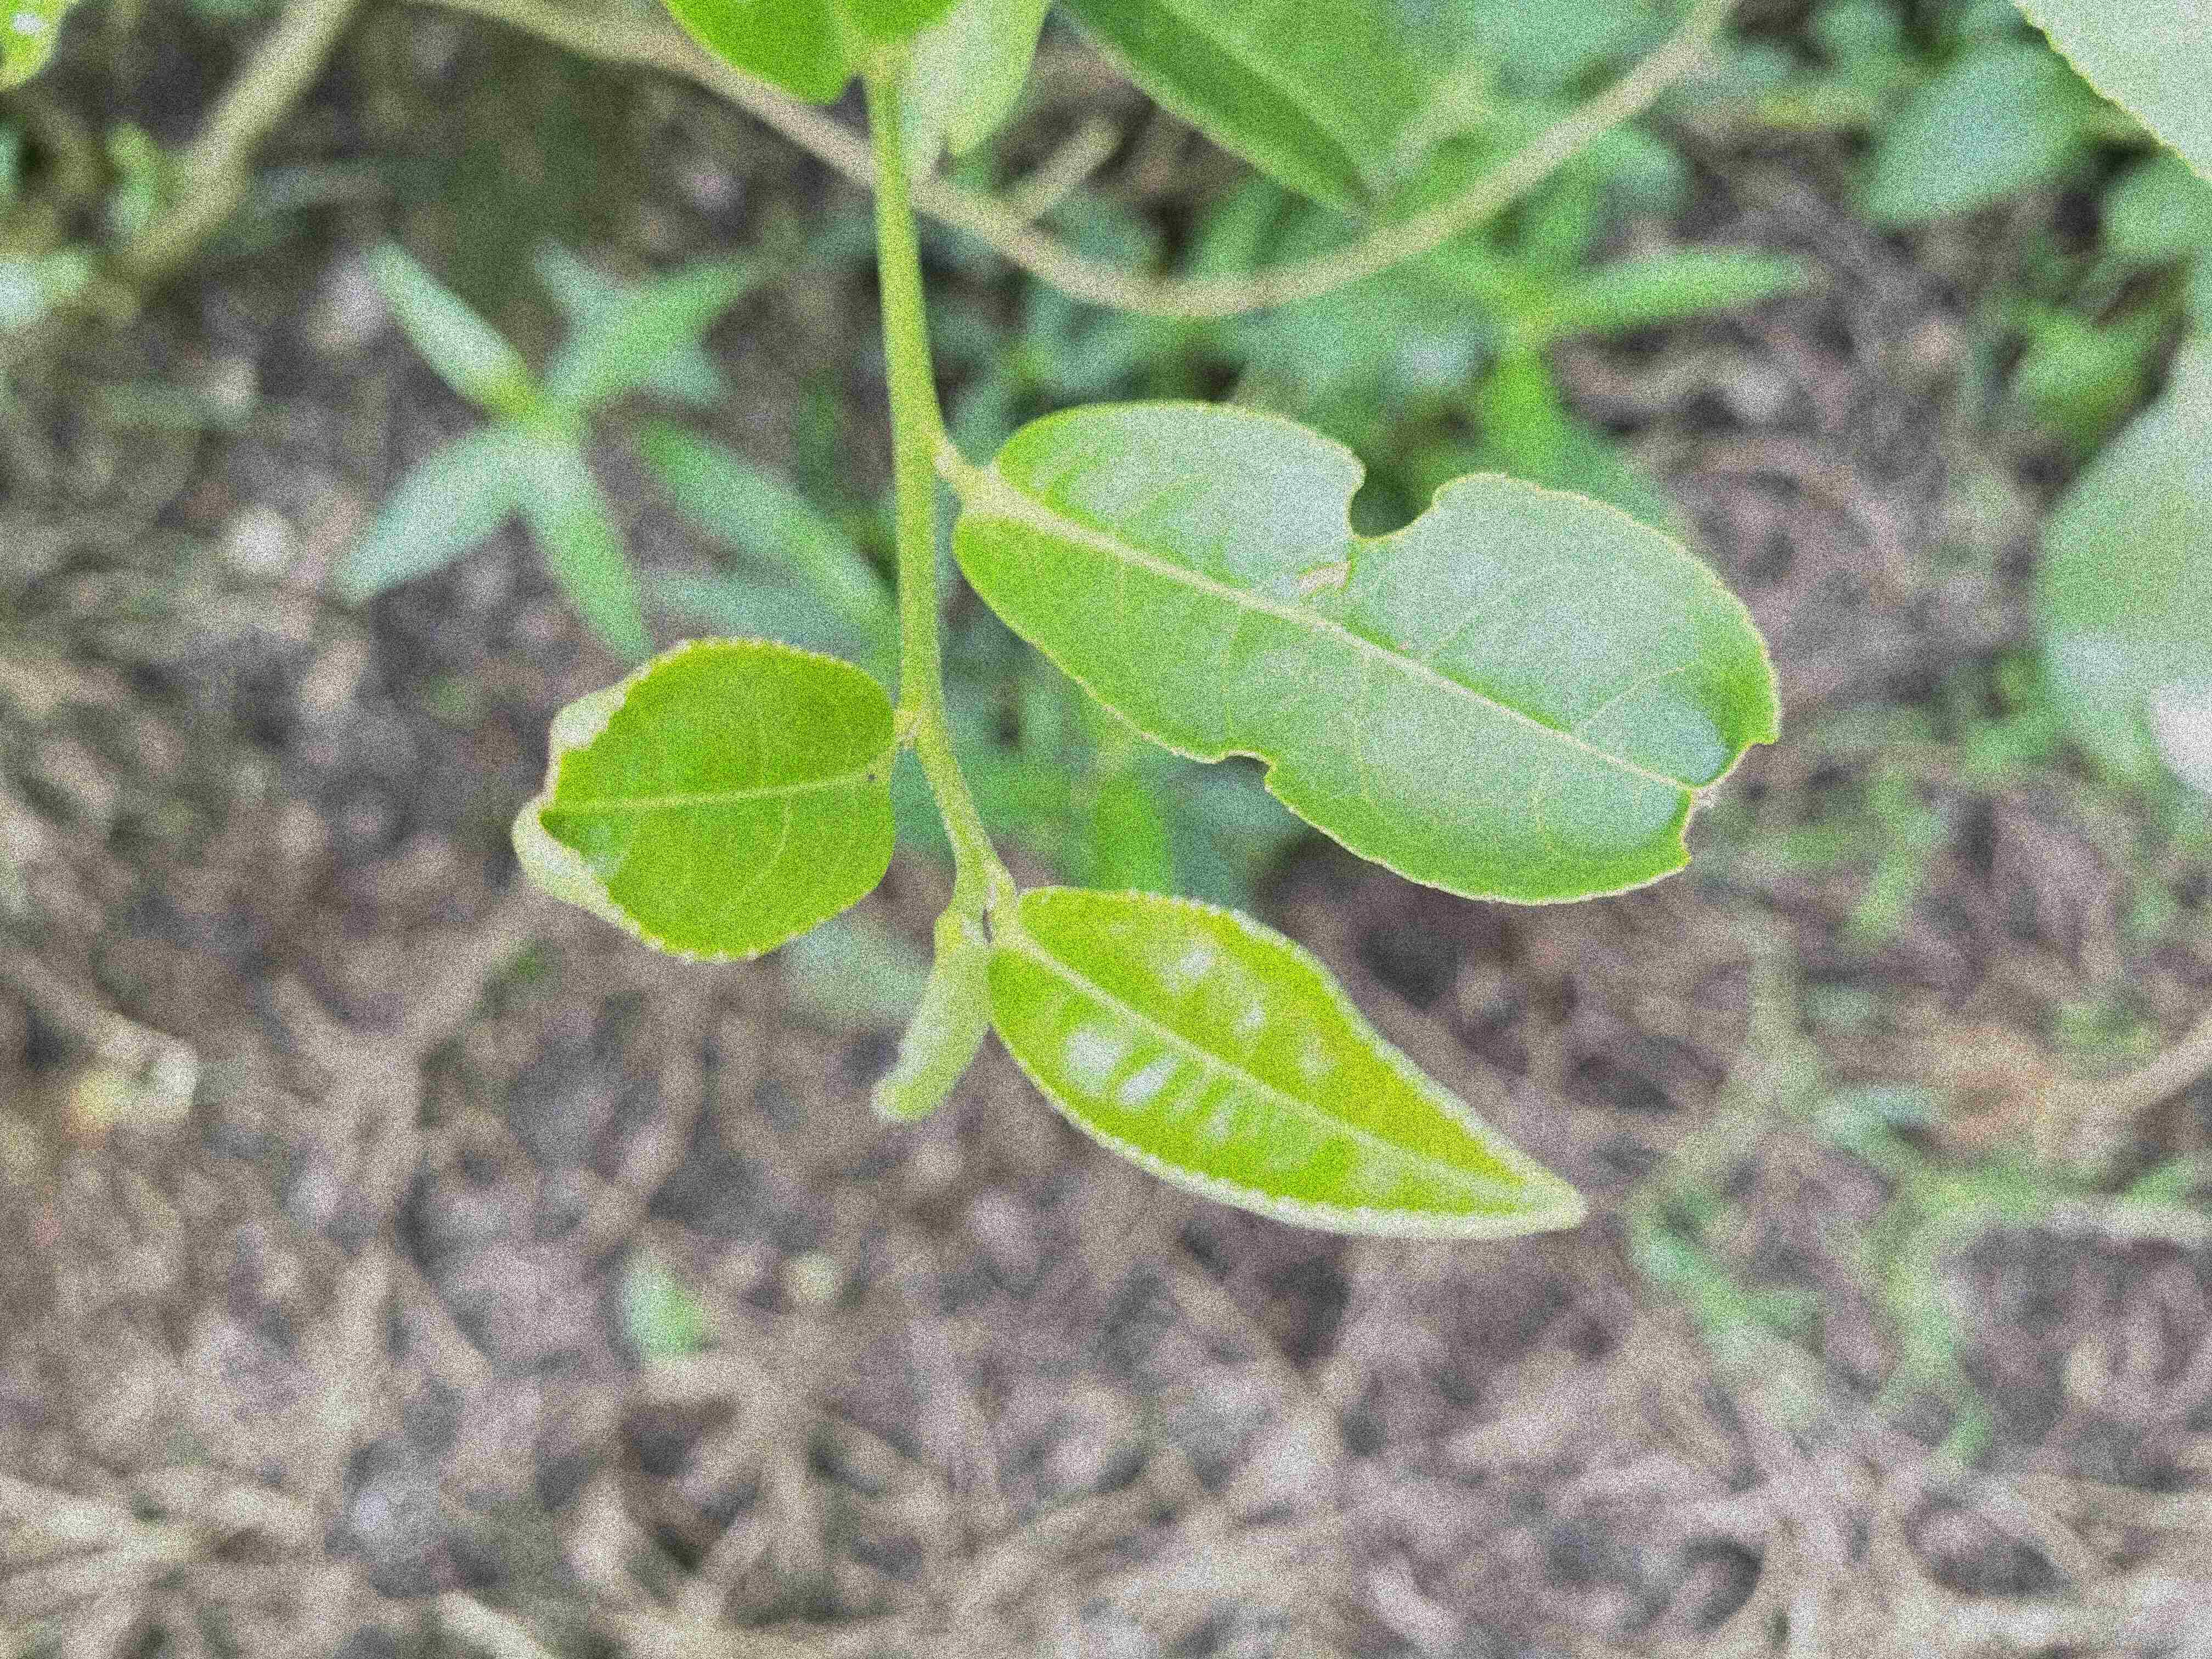chihuo_high: (953, 396, 1785, 904)
healthy: (984, 880, 1588, 1239), (510, 636, 897, 965)
